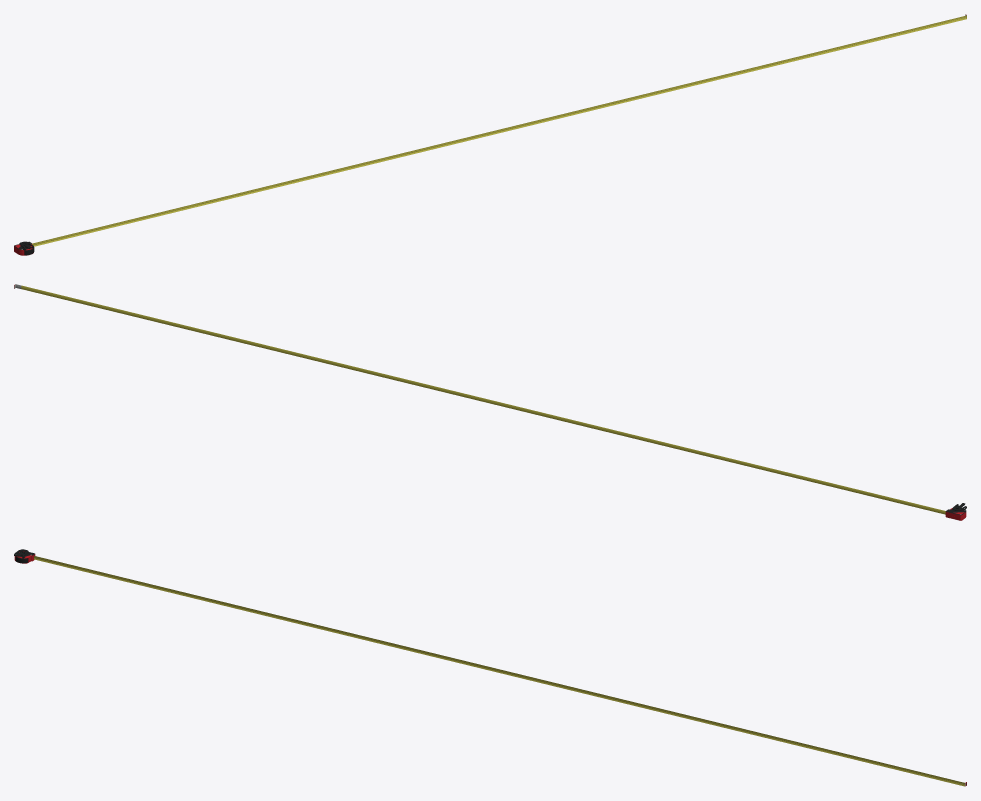
File: hultafors_bt5m_catalogue_capacity.glb
The picture shows the model from 3 angles, top to bottom: view 1: azimuth 30°, elevation 25°; view 2: azimuth 150°, elevation 25°; view 3: azimuth 330°, elevation 25°; orthographic projection.
Visible parts, largest first — view 1: continuous_steel_blade; view 2: continuous_steel_blade; view 3: continuous_steel_blade.
Boxes of the visible parts, left/top/right/bottom form: continuous_steel_blade: left=32, top=15, right=966, bottom=246; continuous_steel_blade: left=21, top=285, right=945, bottom=514; continuous_steel_blade: left=34, top=556, right=964, bottom=786.
Size of the model in its own units: 5.09 by 0.0453 by 0.094.
